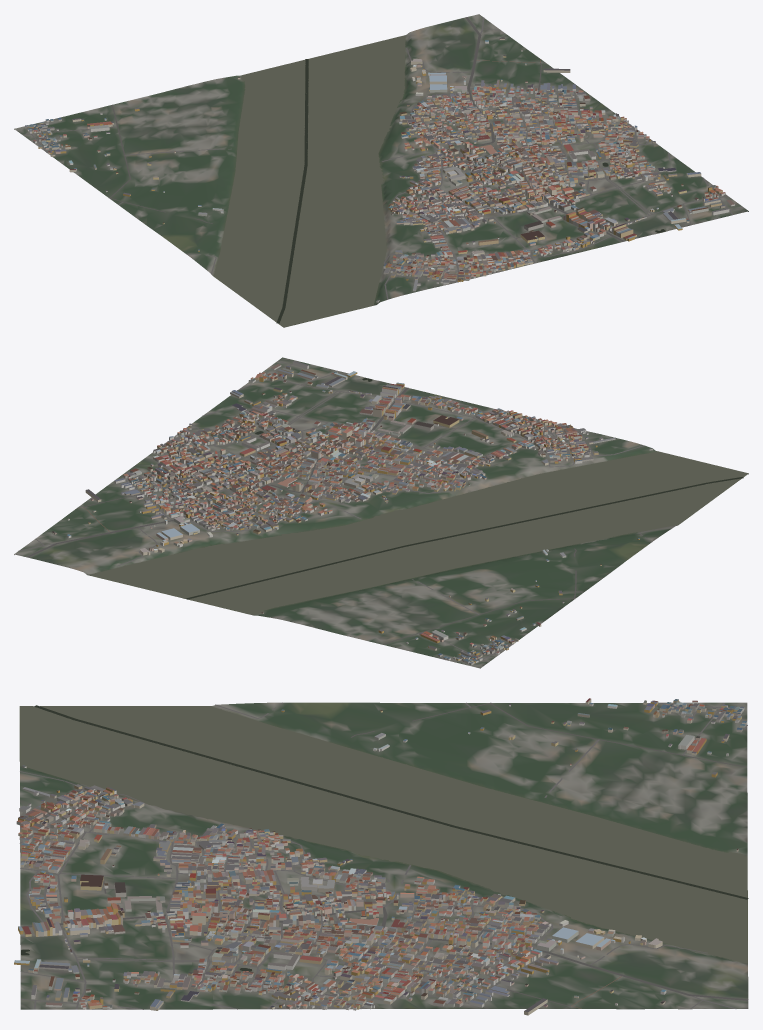
3 views of the same model, one above another, from view 1: azimuth 30°, elevation 25°; view 2: azimuth 150°, elevation 25°; view 3: azimuth 270°, elevation 25° (orthographic). The views are drawn at different scales.
Parts seen in each view (by area): view 1: ground, water, buildings, roads; view 2: ground, water, buildings, roads; view 3: ground, water, buildings, roads.
Part boxes in pixels (x1,y1,x2,y2): ground: (14, 14, 748, 327); water: (213, 35, 665, 327); buildings: (25, 37, 734, 302); roads: (22, 17, 743, 299); ground: (14, 357, 748, 668); water: (89, 377, 747, 614); buildings: (51, 361, 652, 665); roads: (18, 361, 676, 662); ground: (19, 702, 748, 1009); water: (20, 705, 748, 971); buildings: (14, 698, 747, 1015); roads: (19, 702, 748, 1009).
Size of the model in its own units: 1438 by 32.43 by 1416.
